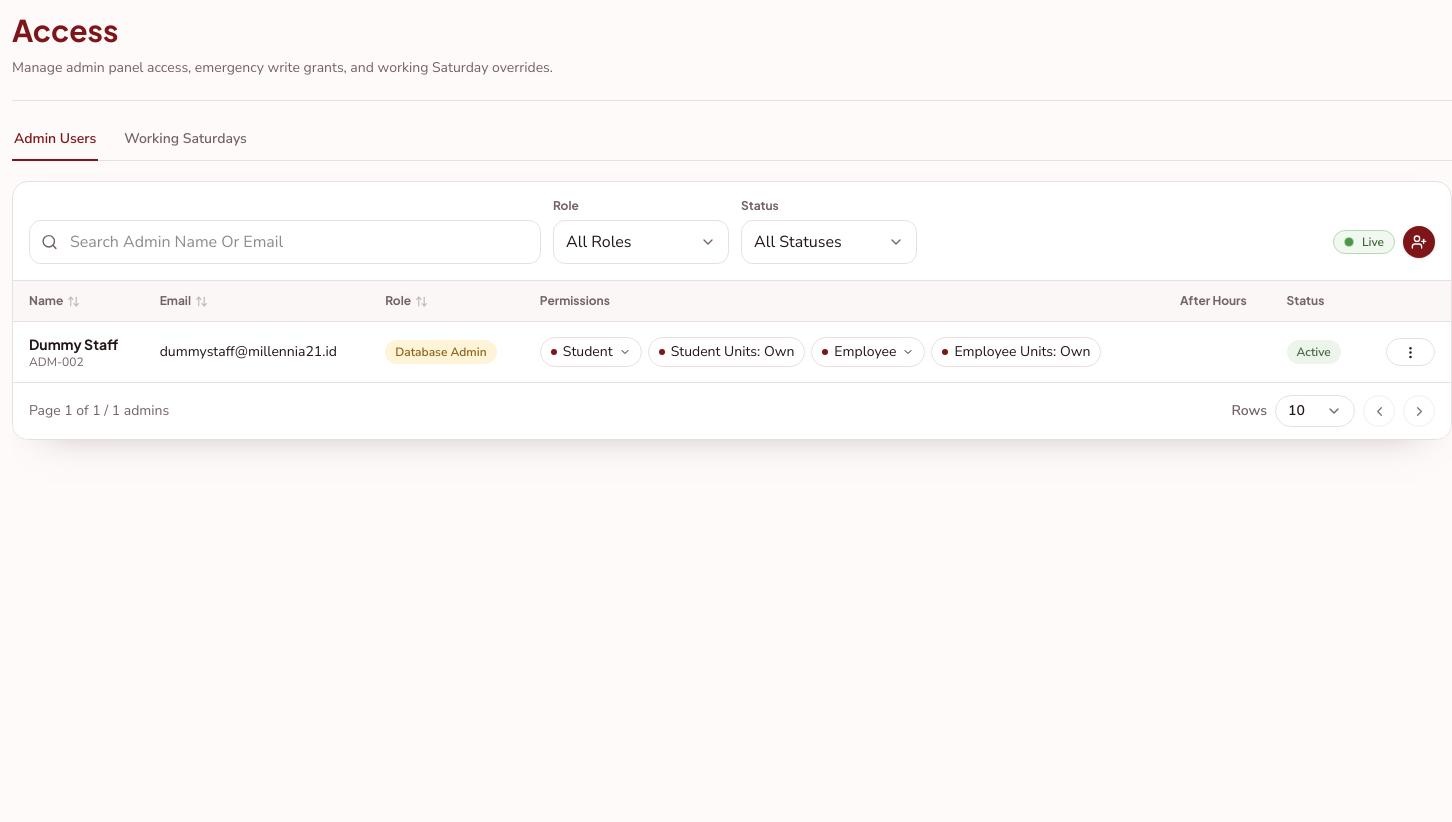
Scenario: Access role change summary › keeps History, Grant, role change and Demote inside one actions menu
The image size is (1452, 822).
Check: the text "dummystaff@millennia21.id" is shown, box [160,342,353,362]
Check: the tab "History" is not shown
Click the button named "Actions for dummystaff@millennia21.id".
click(1410, 352)  # box [1386,338,1435,366]
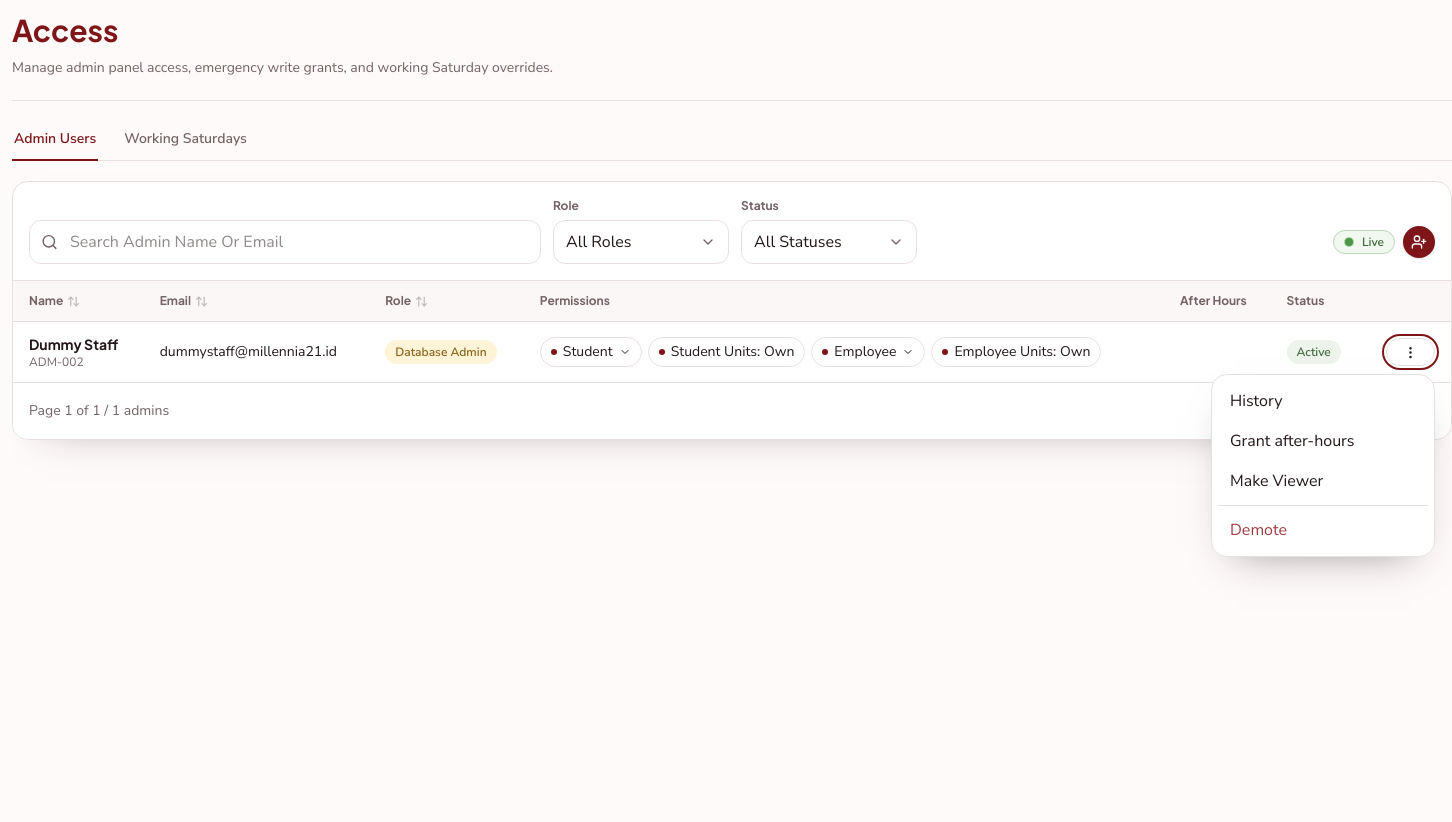
Check: the button "History" is shown, box [1218,381,1428,421]
Check: the button "Grant after-hours" is shown, box [1218,421,1428,461]
Check: the button "Make Viewer" is shown, box [1218,461,1428,501]
